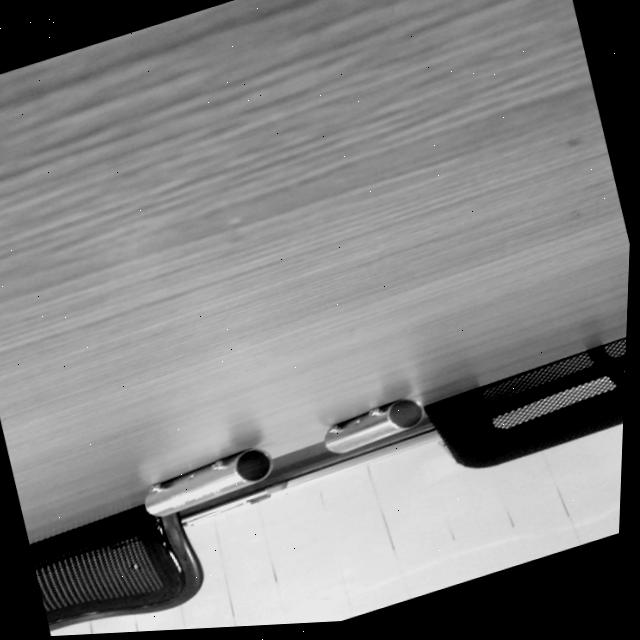Co_Lon: (139, 442, 277, 521)
Co_Nho: (319, 392, 427, 458)
